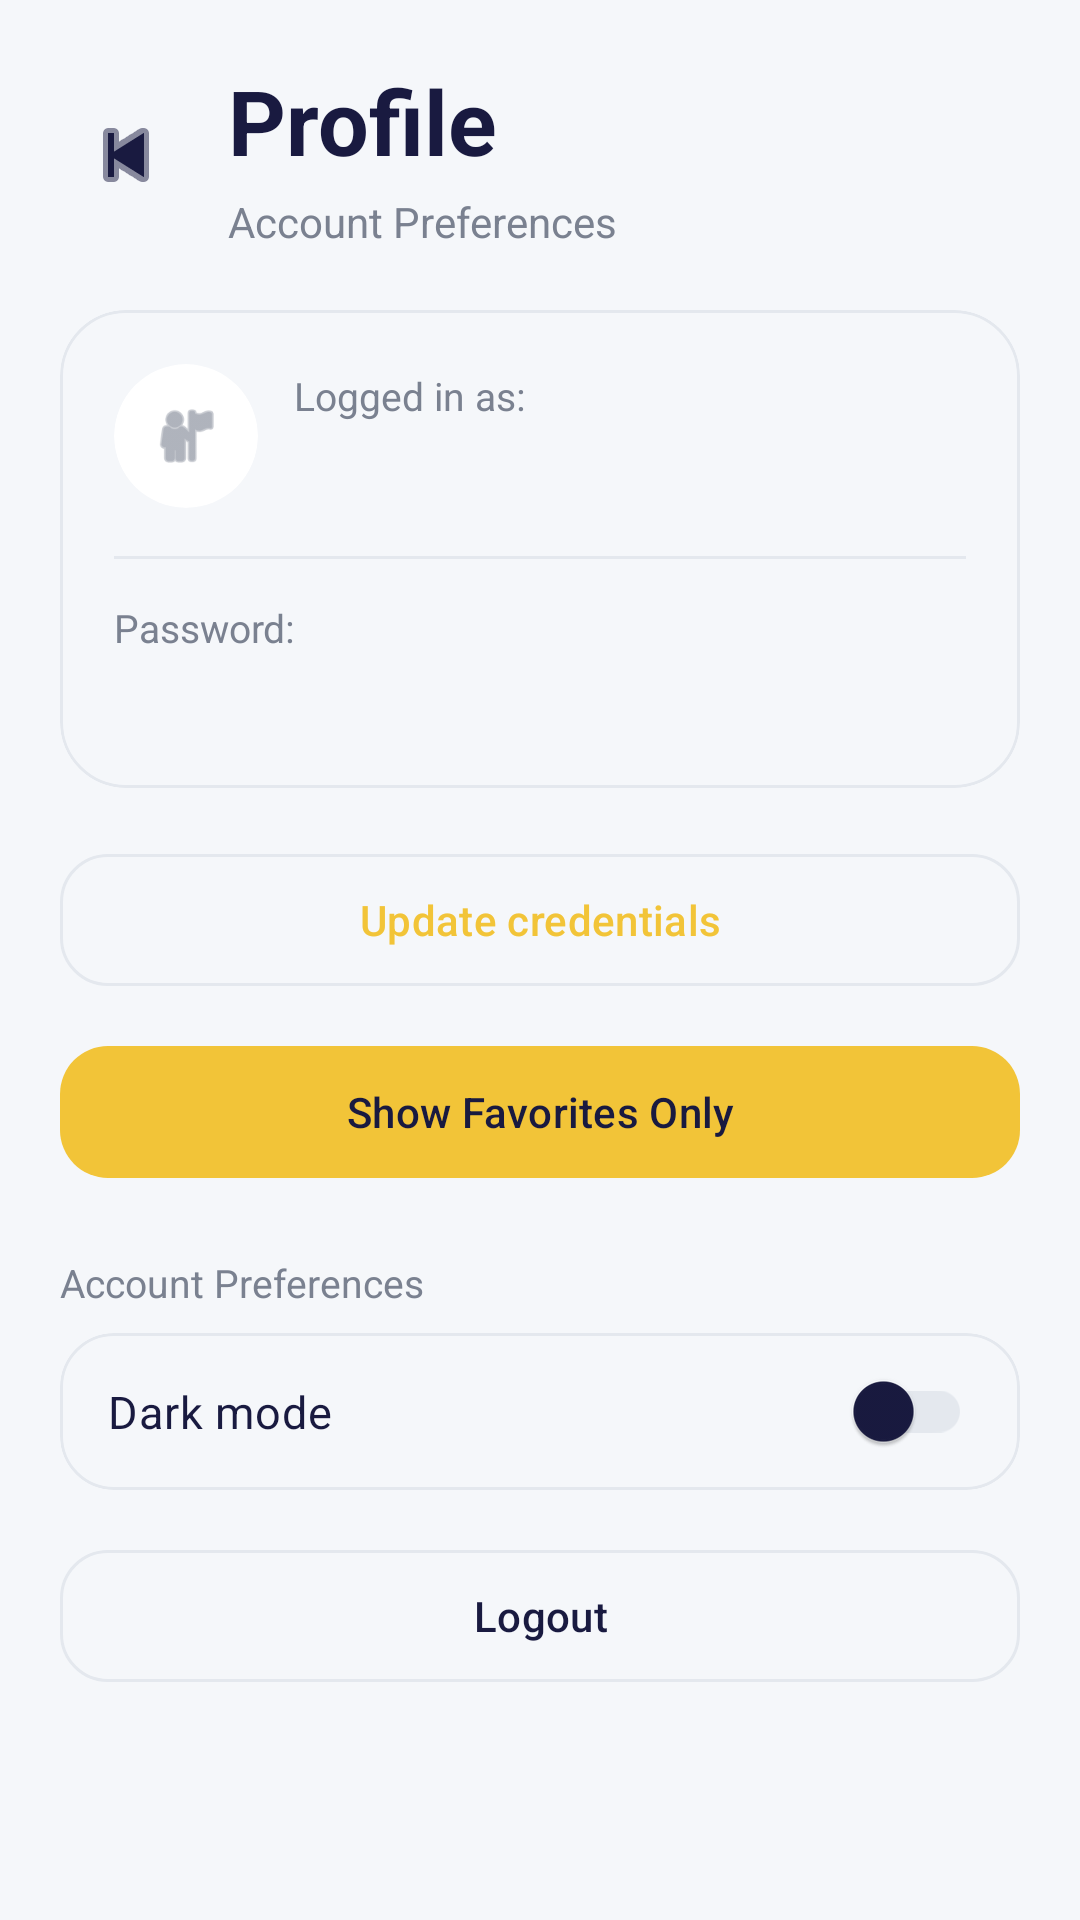

Named icons in this screenshot (1080×1920) and their bounding boxes, Rect(x1, y1, x2, y2):
Back: Rect(103, 128, 149, 182)
Profile: Rect(160, 410, 213, 462)
